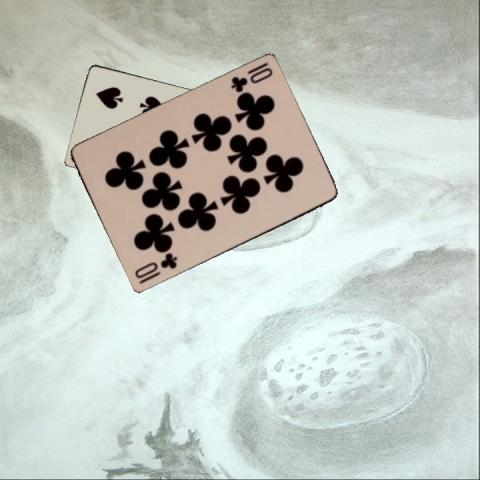10c: (131, 250, 179, 286), (227, 59, 274, 95)
